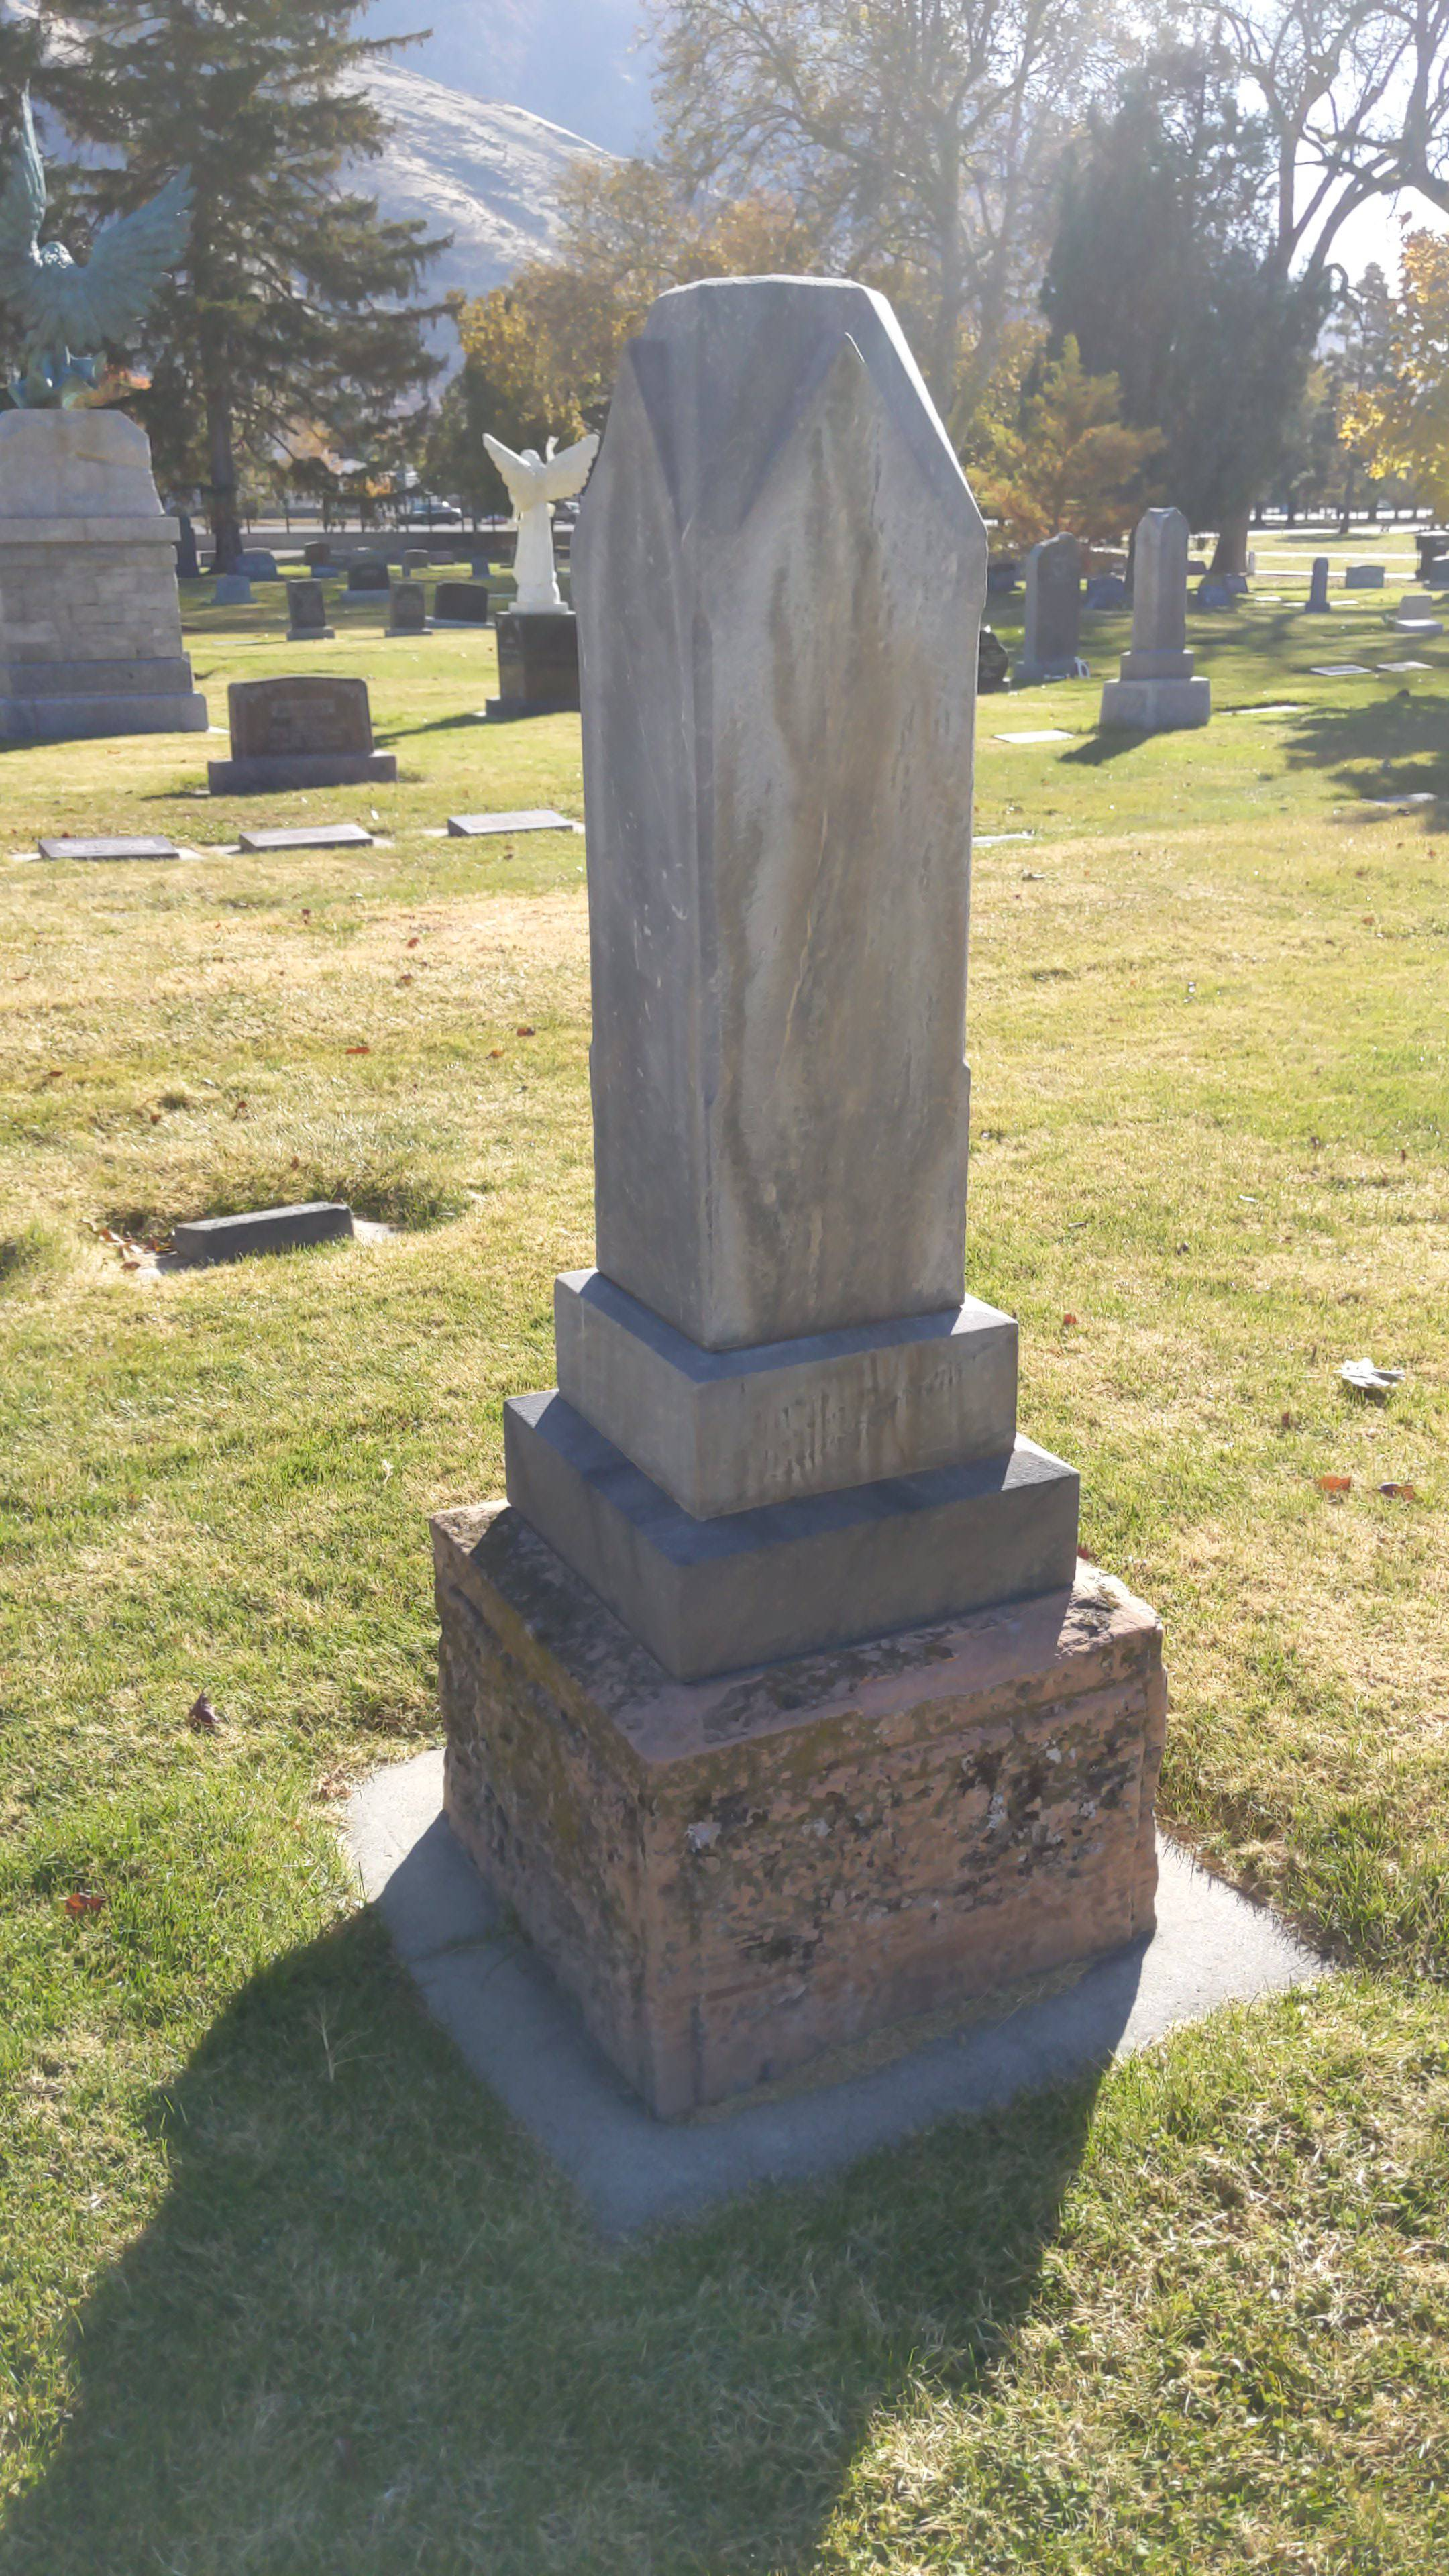obelisk: (499, 272, 1077, 1667)
